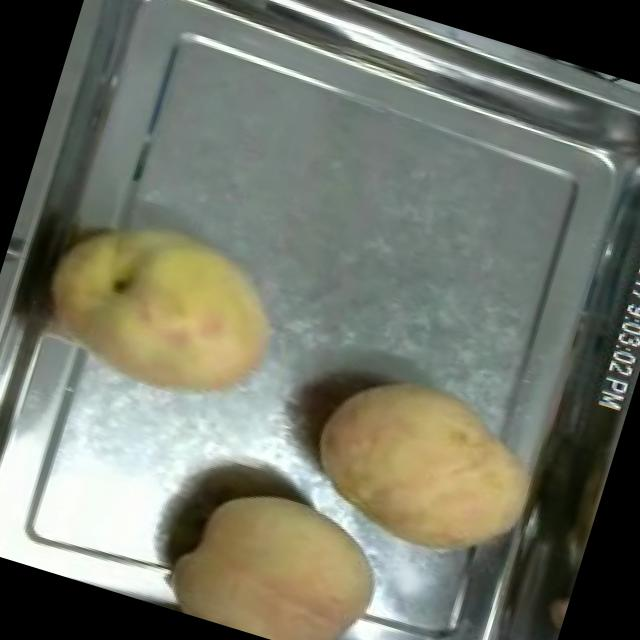Fruit: (12, 182, 308, 432), (284, 347, 568, 590), (153, 458, 406, 640)
